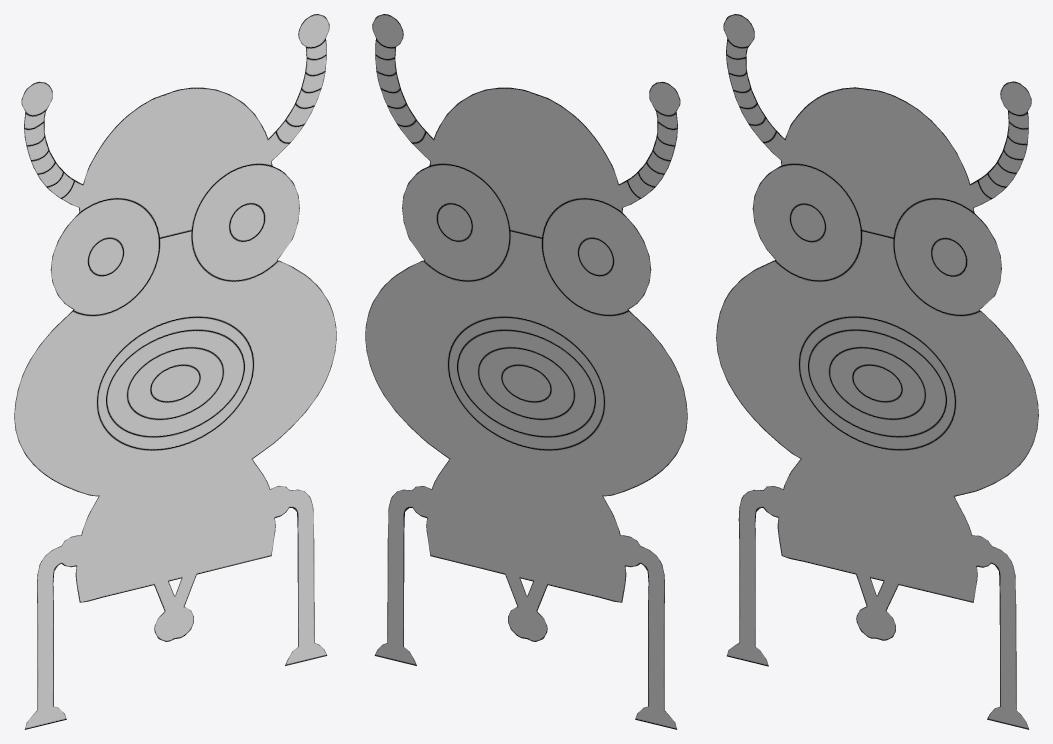
The model's file is 3_youla_fix.fbx.
3 views of the same model, side by side, from view 1: azimuth 30°, elevation 25°; view 2: azimuth 150°, elevation 25°; view 3: azimuth 330°, elevation 25° (orthographic).
Visible parts, largest first — view 1: erer; view 2: erer; view 3: erer.
Boxes of the visible parts, x1,y1,x2,y2 form: erer: [14, 14, 336, 729]; erer: [365, 14, 687, 729]; erer: [716, 14, 1038, 729].
Bounding box in the file's own units: 8.19 × 15.64 × 2.55e-06.
1 material, 1 textured.
